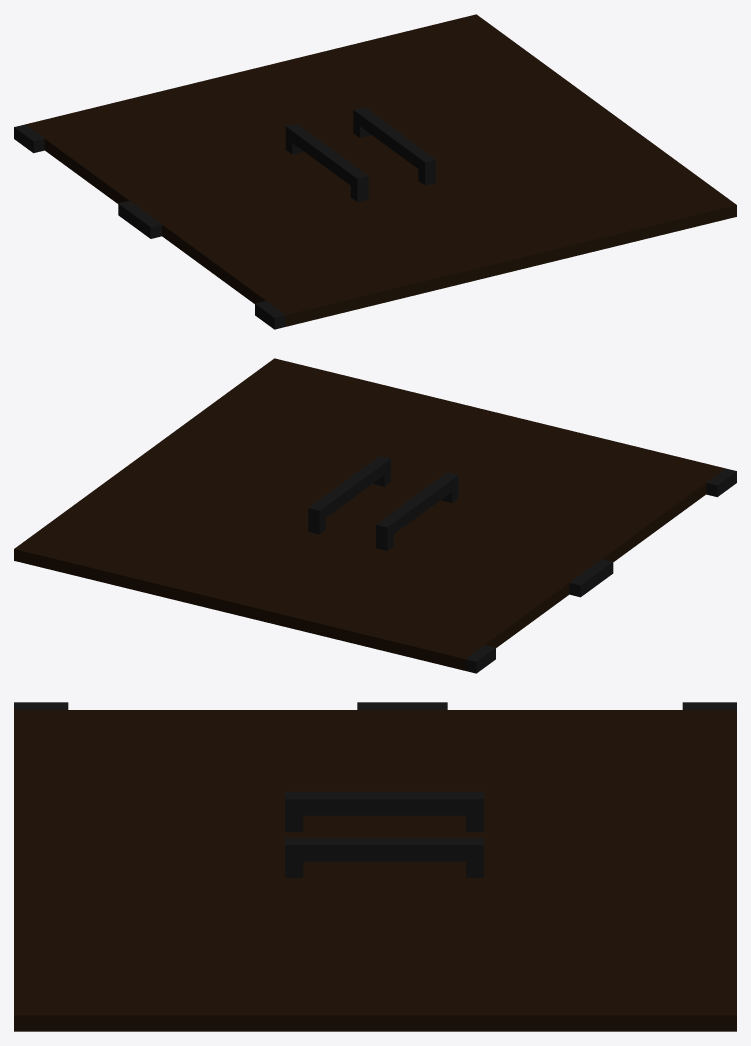
The model's file is SheltSM.obj.
3 views of the same model, one above another, from view 1: azimuth 30°, elevation 25°; view 2: azimuth 150°, elevation 25°; view 3: azimuth 270°, elevation 25° (orthographic). The views are drawn at different scales.
Bounding box in the file's own units: 4.1 × 0.3 × 4.
Materials: 1 (1 with a texture image).
